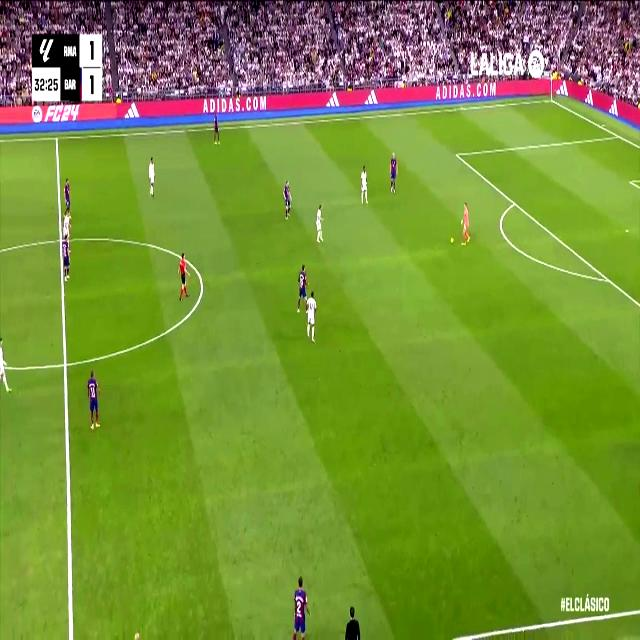bigarea_top_inner: (453, 146, 460, 162)
bottom_arc_area_intersection: (603, 269, 612, 288)
corner: (547, 93, 555, 104)
halfcircle_bottom: (59, 350, 71, 377)
halfcircle_top: (54, 231, 66, 251)
midline_top_intersection: (53, 131, 61, 145)
smallarea_top_inner: (626, 174, 634, 188)
top_arc_area_intersection: (511, 194, 518, 210)
